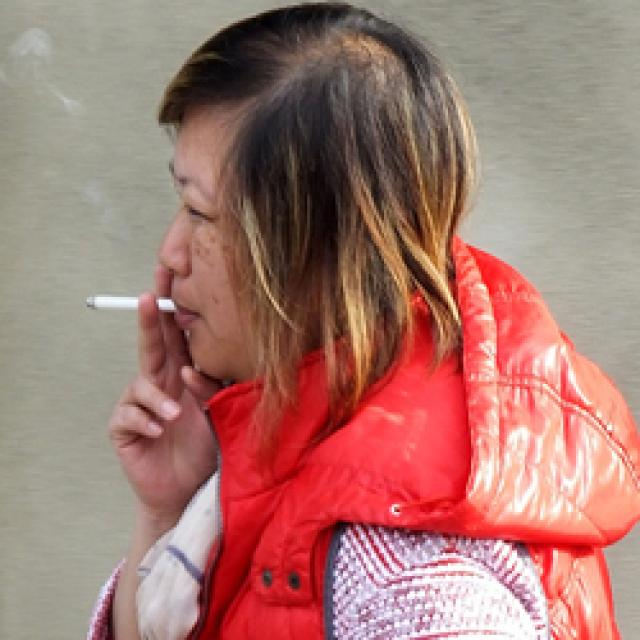Smooking: (77, 289, 174, 329)
